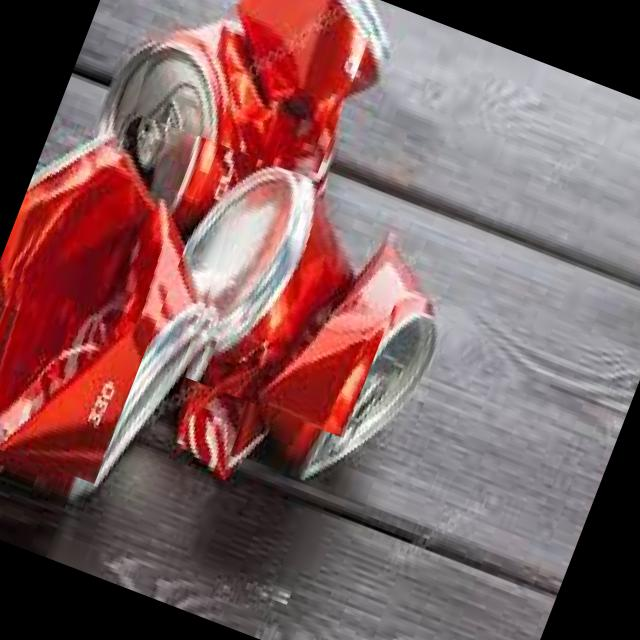Cans: (0, 146, 203, 486), (168, 176, 418, 438), (119, 0, 377, 181)
